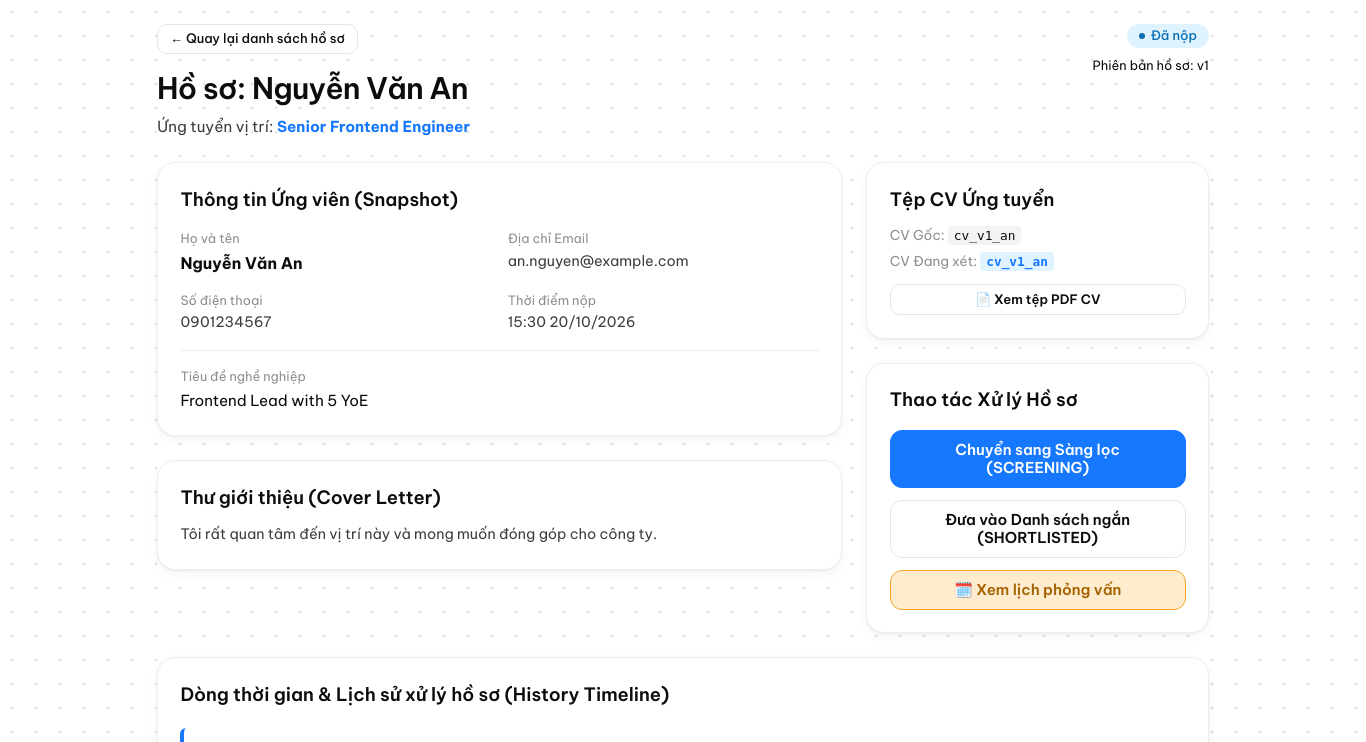
Test: RecruiterApplicationDetailPage (UI20, UI23, FE31) › allows recruiter to transition status from SUBMITTED to SCREENING (UC07, BR09)
Click the button with test id "move-to-screening-btn" at (1038, 459), box [890,430,1186,488]
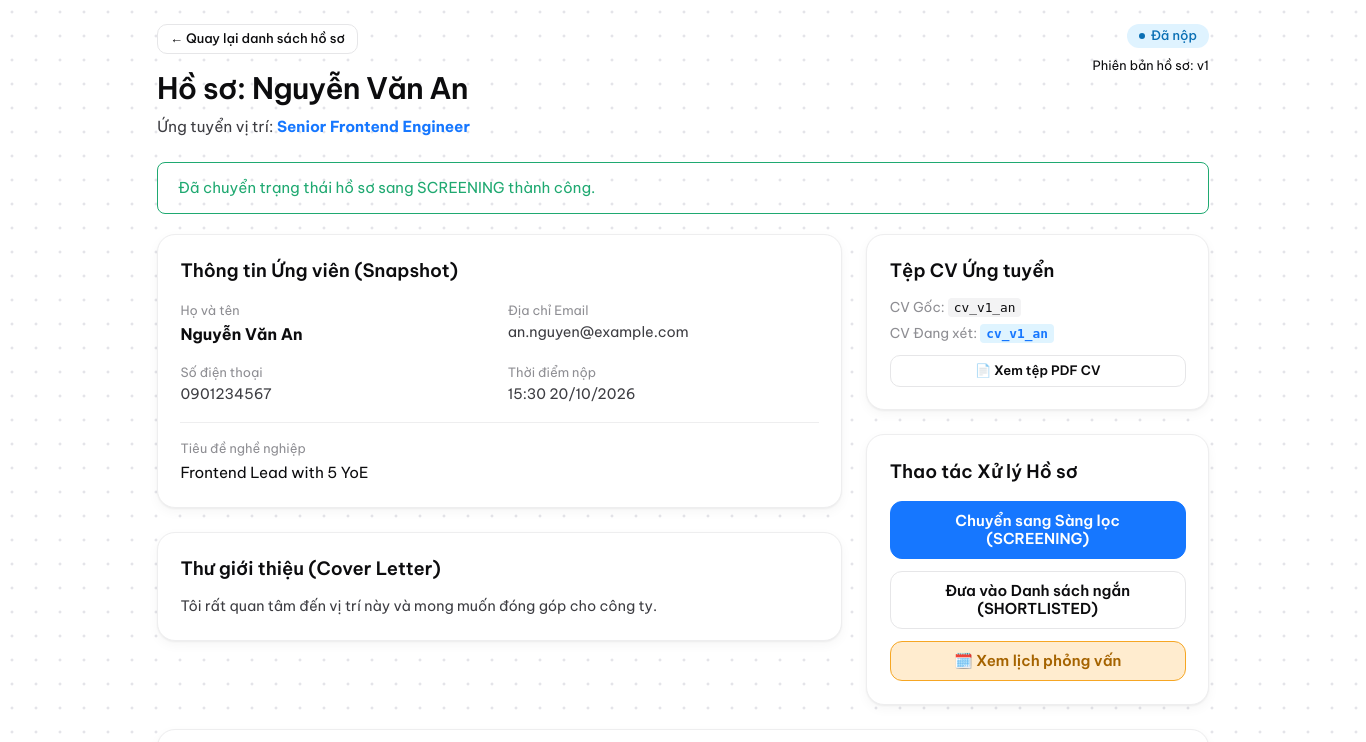
Expected: the text "Đã chuyển trạng thái hồ sơ sang SCREENING thành công." is shown, [157,162,1209,214]
